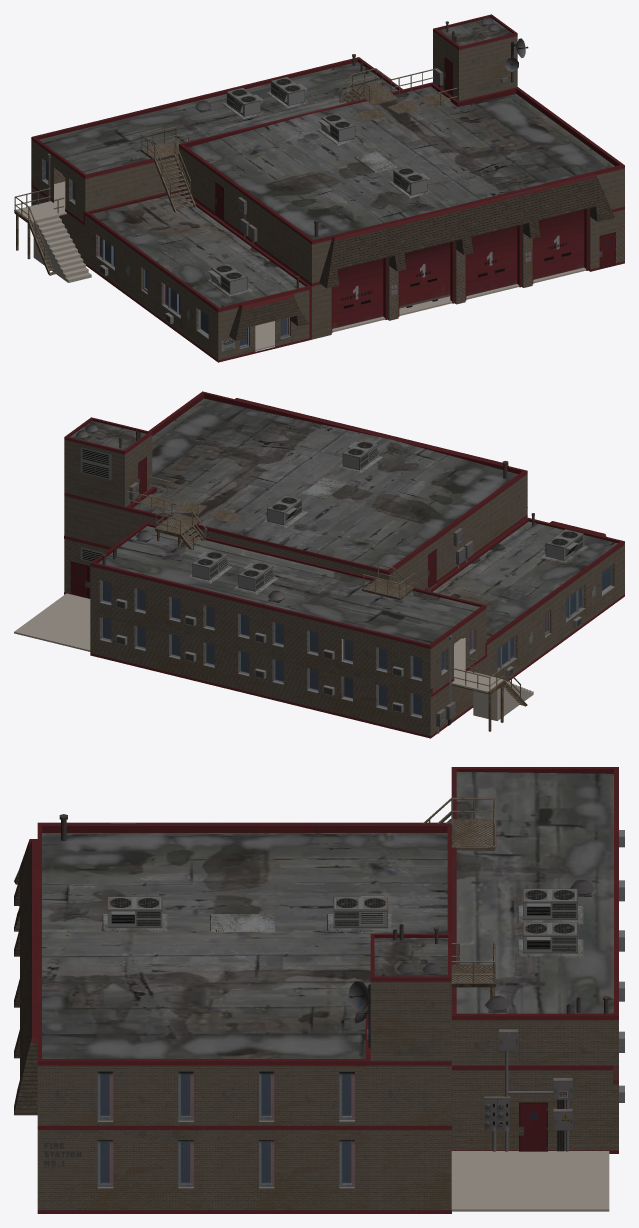
Rendered from fire-station.access-v2.lod0.glb.
3 views of the same model, one above another, from view 1: azimuth 30°, elevation 25°; view 2: azimuth 150°, elevation 25°; view 3: azimuth 270°, elevation 25° (orthographic). The views are drawn at different scales.
Visible parts, largest first — view 1: LOD0_Material #65_0, Walkable floors and stairs; view 2: LOD0_Material #65_0, Walkable floors and stairs; view 3: LOD0_Material #65_0, Walkable floors and stairs.
Part boxes in pixels (bbox=[...]): LOD0_Material #65_0: bbox=[14, 14, 624, 362]; Walkable floors and stairs: bbox=[16, 181, 586, 351]; LOD0_Material #65_0: bbox=[64, 391, 624, 738]; Walkable floors and stairs: bbox=[14, 593, 533, 720]; LOD0_Material #65_0: bbox=[14, 767, 624, 1213]; Walkable floors and stairs: bbox=[451, 1151, 609, 1211].
Bounding box in the file's own units: 31.27 × 10.57 × 23.61.
Materials: 2 (1 with a texture image).
